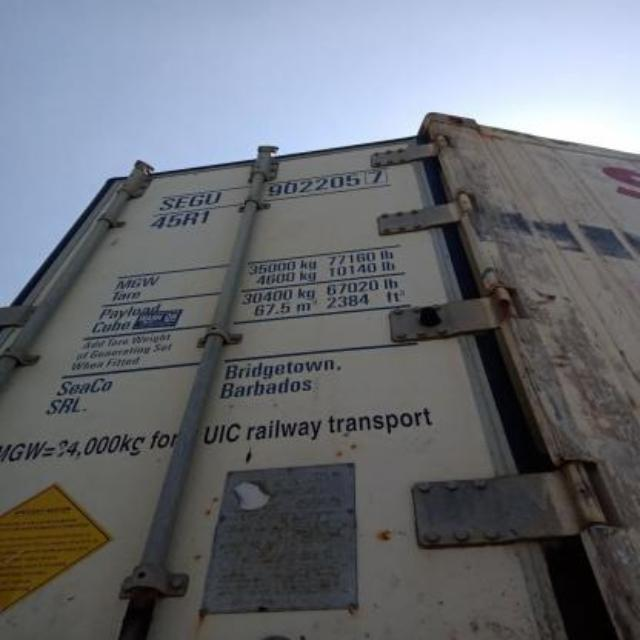0: (282, 182, 298, 194), (328, 176, 344, 188)
2: (313, 178, 329, 192), (298, 181, 314, 193)
5: (343, 174, 361, 186)
7: (367, 170, 383, 183)
9: (267, 185, 283, 198)
E: (176, 197, 188, 210)
G: (188, 195, 204, 208)
S: (160, 198, 176, 212)
U: (206, 192, 220, 204)
